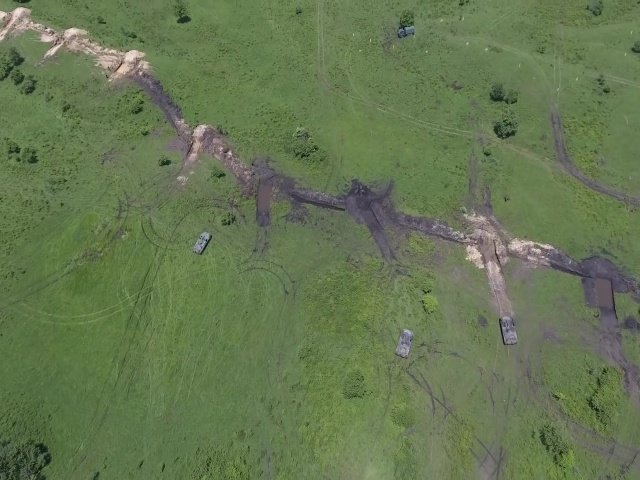vehicle: (497, 312, 518, 347), (393, 328, 414, 358), (191, 231, 212, 255), (396, 25, 415, 38)
